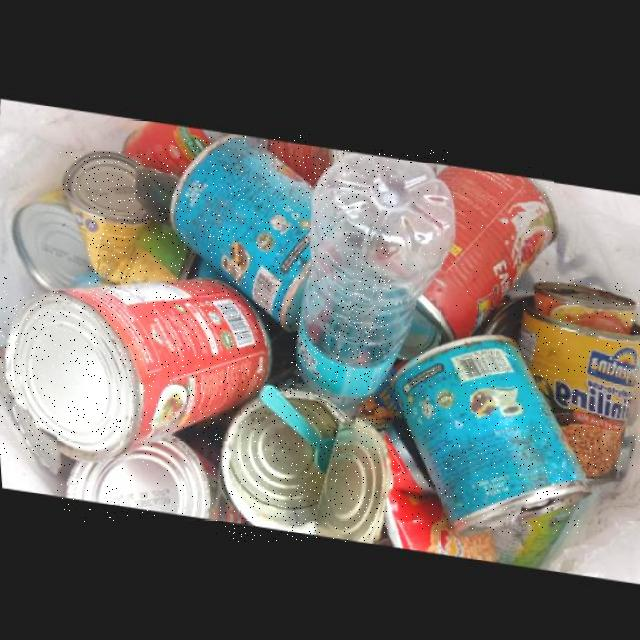metal: (0, 276, 265, 461), (382, 332, 583, 533), (391, 164, 554, 358), (165, 134, 311, 330), (213, 383, 380, 542), (508, 278, 640, 475), (59, 152, 190, 284), (58, 434, 236, 524), (9, 192, 88, 291)
plastic: (291, 151, 451, 404)
